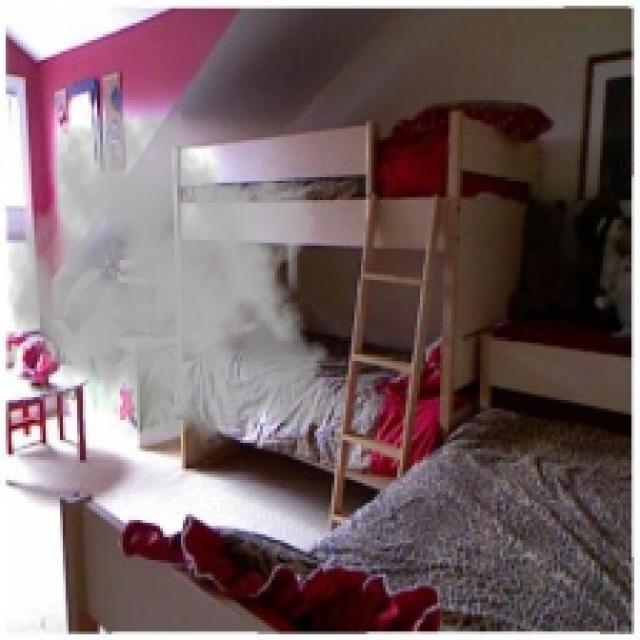Smoke: (6, 94, 352, 452)
